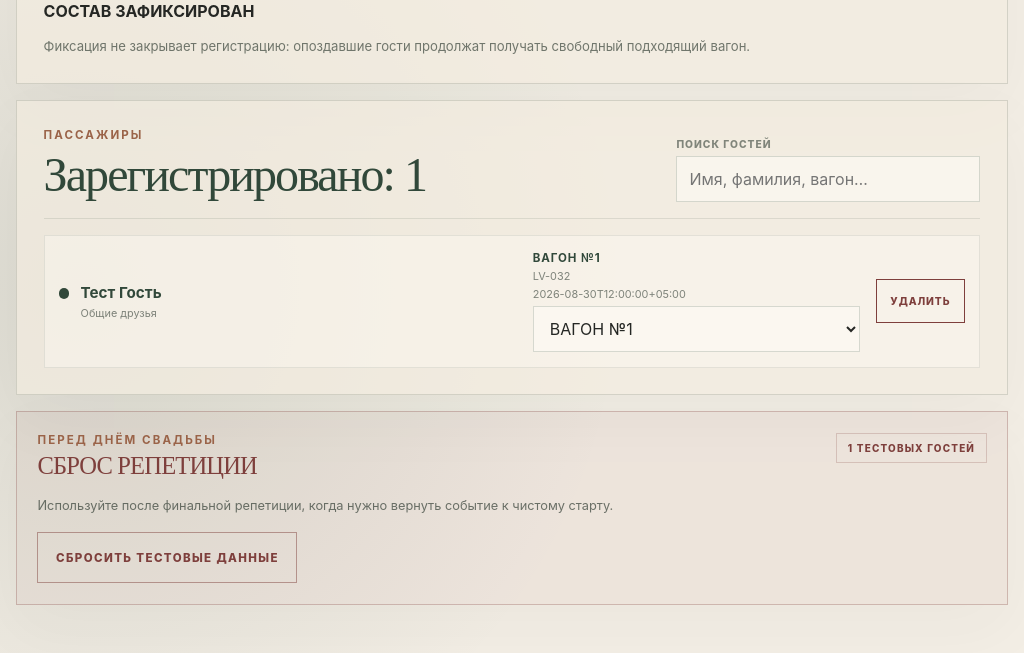
Test: AdminShell rehearsal reset › expires the owner session after a committed reset when the follow-up load returns 401
This screenshot has width=1024, height=653.
(page scrolled)
Expected: the heading "Тест Гость" is shown, [81,283,162,302]
Click the button "СБРОСИТЬ ТЕСТОВЫЕ ДАННЫЕ" at (167, 558), box [38,532,297,584]
(page scrolled)
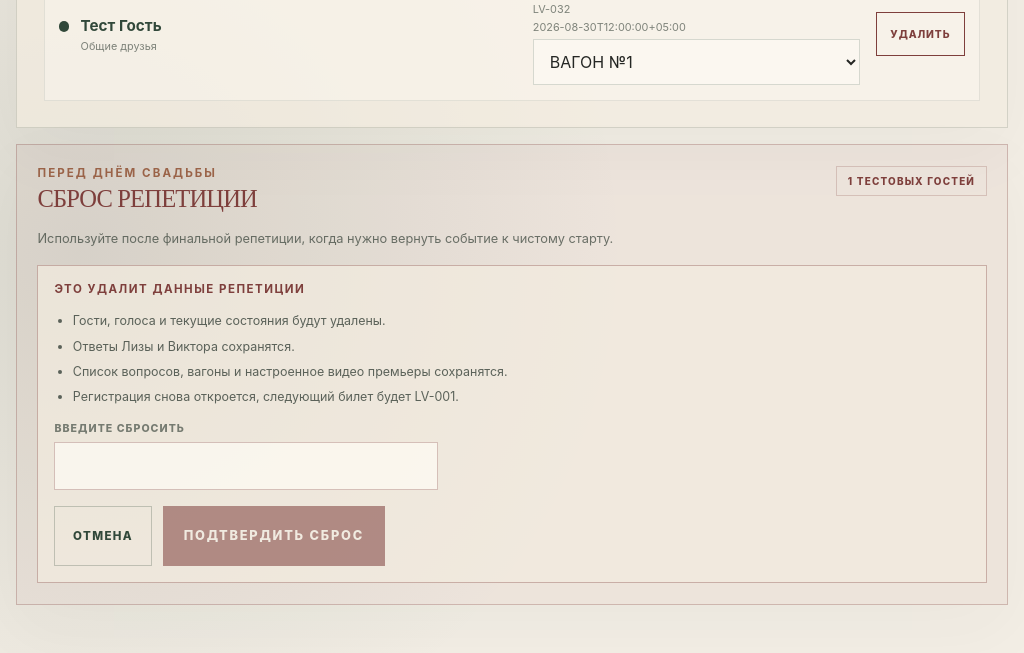
Type "СБРОСИТЬ" into the field labelled "Введите СБРОСИТЬ" at (246, 466), box [54,442,438,490]
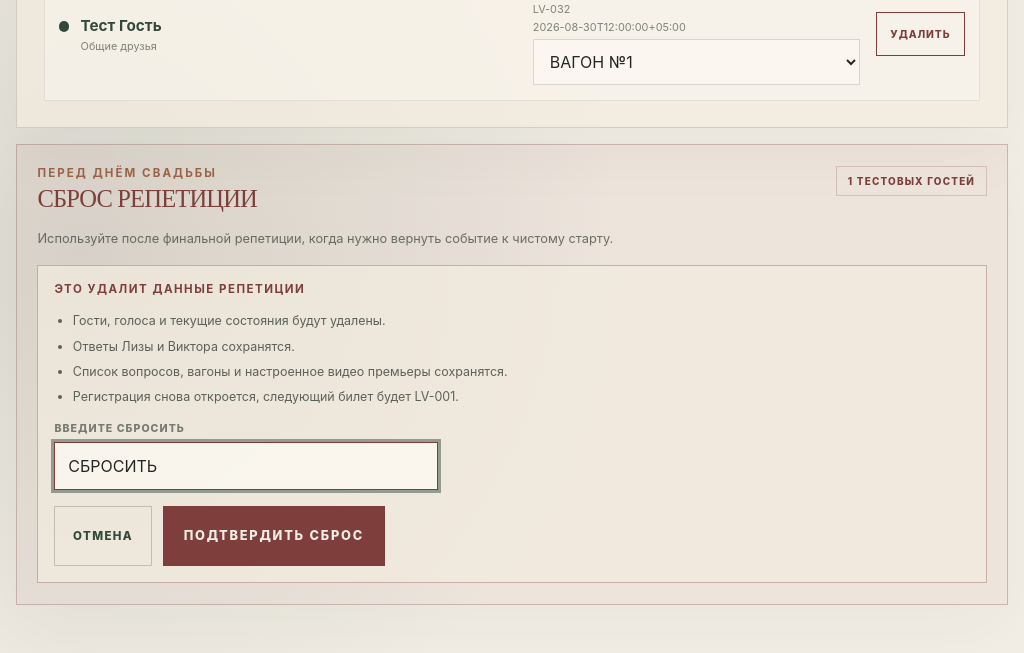
Click the button "ПОДТВЕРДИТЬ СБРОС" at (274, 536), box [163,506,385,566]
(page scrolled)
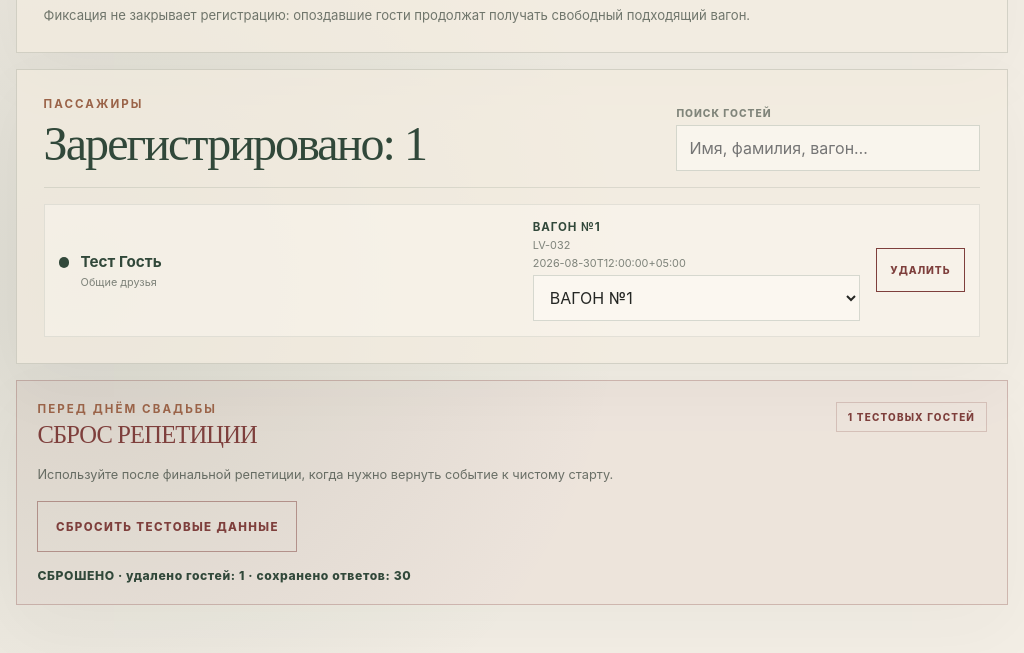
Now the text "СБРОШЕНО · удалено гостей: 1 · сохранено ответов: 30" is shown, box [38,568,411,583]
